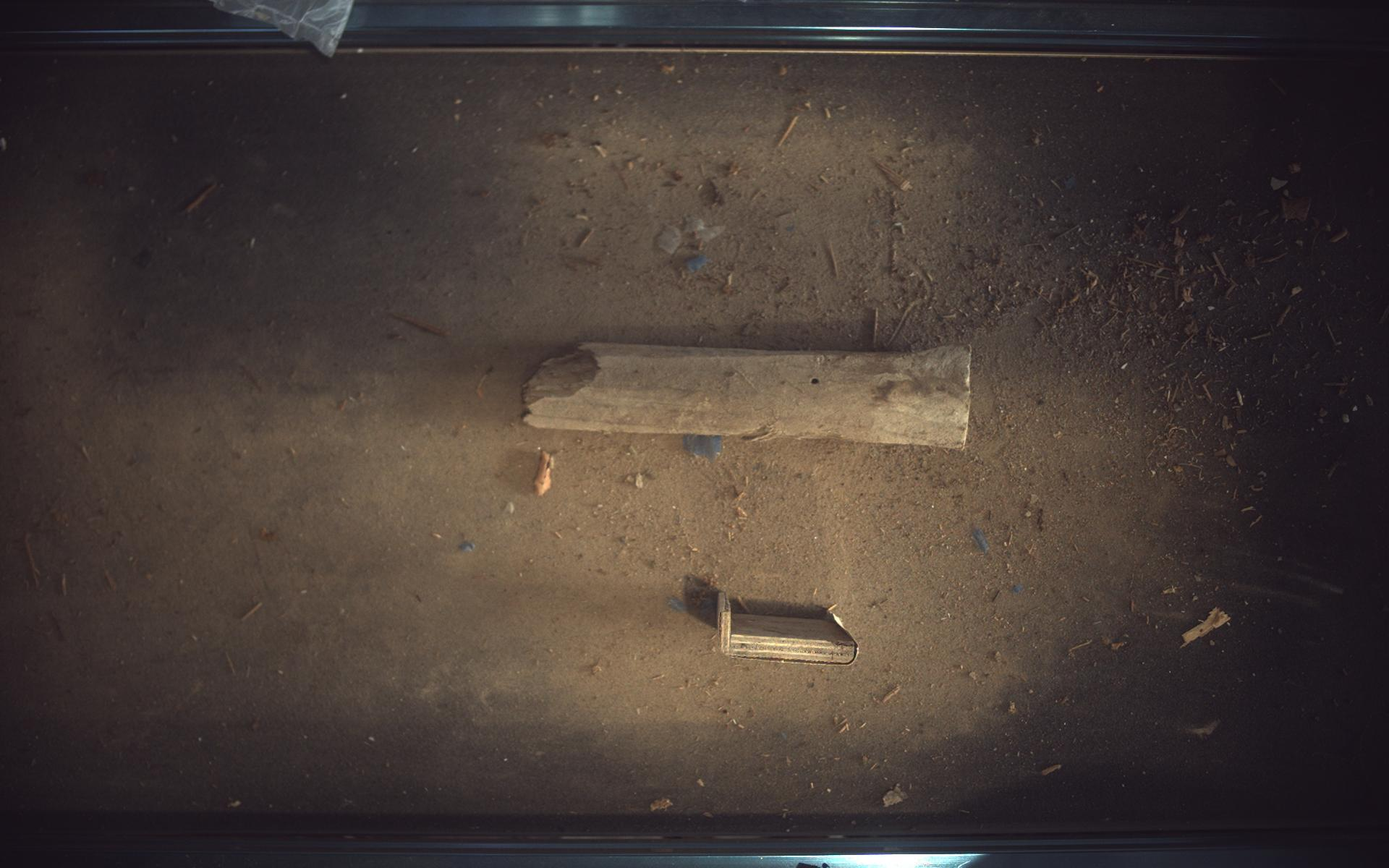wood: (524, 343, 972, 448), (719, 592, 860, 665)
